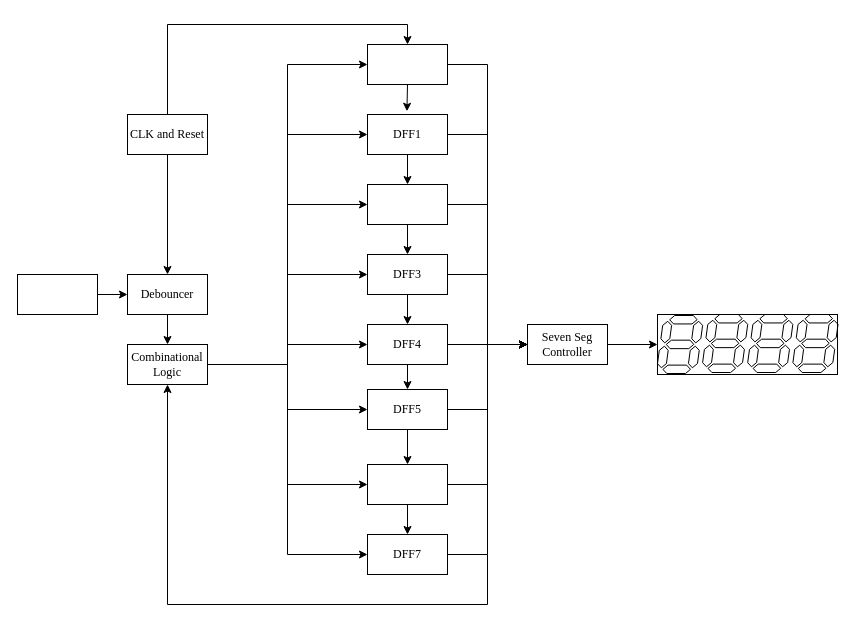
This 856x630 diagram has some shape labels left out. Here are the shapes that lost their labels. From the top down, the centre of each, then its label:
At (407,64): "DFF0".
At (407,204): "DFF2".
At (57,294): "Input Buttons".
At (407,484): "DFF6".
